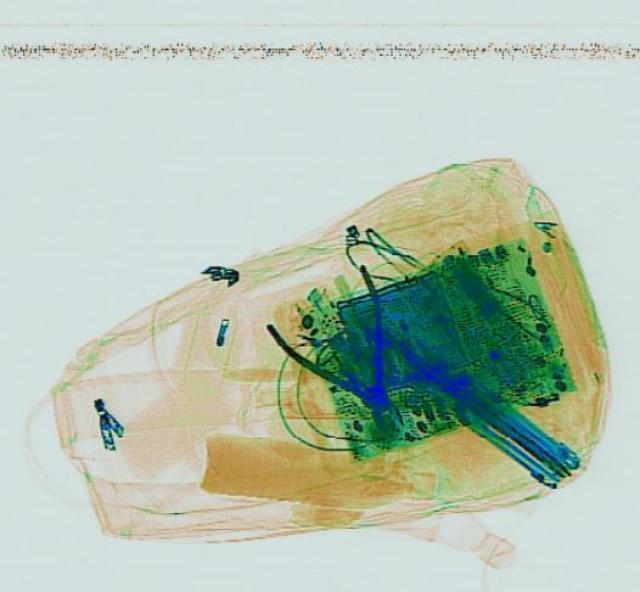Pliers: (252, 261, 448, 449)
